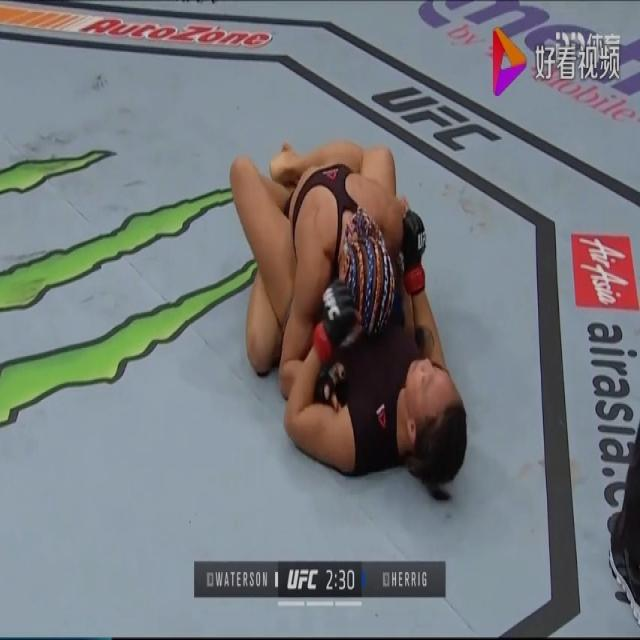fight: (232, 138, 469, 510)
